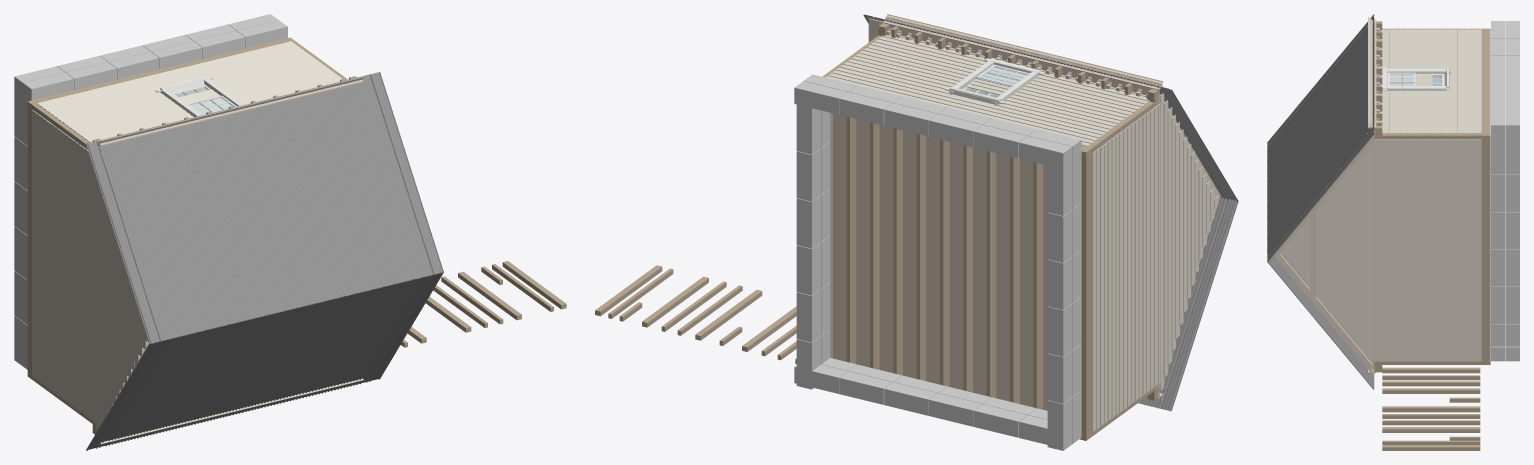
The picture shows the model from 3 angles, left to right: view 1: azimuth 30°, elevation 25°; view 2: azimuth 150°, elevation 25°; view 3: azimuth 270°, elevation 25°; orthographic projection. The views are drawn at different scales.
Visible parts, largest first — view 1: roof_panel_1_front_part, roof_panel_21_front_part, roof_panel_5_front_part, roof_panel_2_front_part, roof_panel_15_front_part, roof_panel_17_front_part, roof_panel_3_front_part, roof_panel_9_front_part, roof_panel_20_front_part, roof_panel_8_front_part, roof_panel_7_front_part, roof_panel_10_front_part (+80 smaller); view 2: roof_panel_1_rear_part, sill_left_1_part, joist_story1_2_part, floor_plank_floor0_plank10_part, joist_story1_4_part, joist_story1_7_part, floor_plank_floor0_plank17_part, joist_story1_10_part, floor_plank_floor0_plank19_part, joist_story1_9_part, joist_story1_5_part, joist_story1_6_part (+91 smaller); view 3: sill_right_1_part, roof_panel_1_front_part, roof_panel_21_front_part, sheathing_right_board2_part, sheathing_right_board3_part, sheathing_right_board4_part, sheathing_right_board5_part, sheathing_right_board10_part, sheathing_right_board11_part, sheathing_right_board12_part, sheathing_right_board13_part, sheathing_right_board1_part (+105 smaller).
Part boxes in pixels (box(x1,y1,x2,y2)): roof_panel_1_front_part: box(86, 134, 187, 343); roof_panel_21_front_part: box(343, 72, 443, 280); roof_panel_5_front_part: box(140, 122, 238, 330); roof_panel_2_front_part: box(102, 131, 200, 340); roof_panel_15_front_part: box(267, 91, 365, 299); roof_panel_17_front_part: box(292, 85, 391, 293); roof_panel_3_front_part: box(115, 128, 212, 336); roof_panel_9_front_part: box(190, 109, 290, 318); roof_panel_20_front_part: box(331, 75, 427, 283); roof_panel_8_front_part: box(177, 112, 276, 320); roof_panel_7_front_part: box(166, 115, 263, 323); roof_panel_10_front_part: box(204, 107, 302, 314); roof_panel_1_rear_part: box(1138, 197, 1238, 411); sill_left_1_part: box(1081, 146, 1092, 438); joist_story1_2_part: box(1033, 162, 1043, 409); floor_plank_floor0_plank10_part: box(952, 142, 962, 389); joist_story1_4_part: box(986, 151, 996, 398); joist_story1_7_part: box(916, 134, 926, 380); floor_plank_floor0_plank17_part: box(879, 125, 889, 372); joist_story1_10_part: box(846, 117, 856, 363); floor_plank_floor0_plank19_part: box(858, 120, 869, 367); joist_story1_9_part: box(870, 122, 879, 369); joist_story1_5_part: box(963, 145, 972, 392); joist_story1_6_part: box(940, 139, 949, 386); sill_right_1_part: box(1480, 132, 1490, 364); roof_panel_1_front_part: box(1267, 14, 1374, 155); roof_panel_21_front_part: box(1267, 118, 1374, 261); sheathing_right_board2_part: box(1469, 139, 1475, 361); sheathing_right_board3_part: box(1463, 139, 1469, 361); sheathing_right_board4_part: box(1457, 139, 1463, 361); sheathing_right_board5_part: box(1451, 139, 1457, 361); sheathing_right_board10_part: box(1420, 139, 1426, 361); sheathing_right_board11_part: box(1414, 139, 1420, 361); sheathing_right_board12_part: box(1408, 139, 1414, 361); sheathing_right_board13_part: box(1402, 139, 1408, 361); sheathing_right_board1_part: box(1475, 139, 1481, 361).
Bounding box in the file's own units: 11.65 × 7.09 × 6.29.
